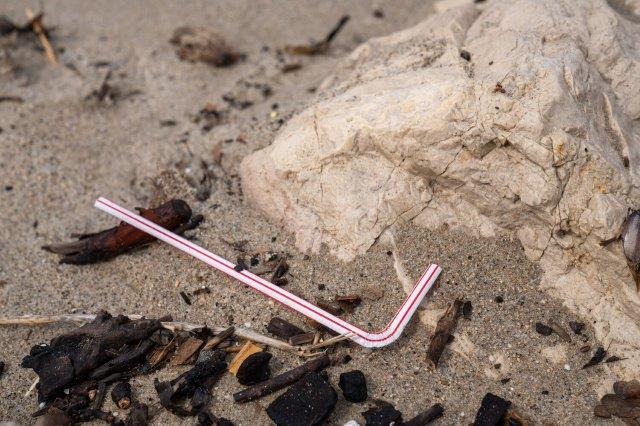sedotan: (94, 197, 442, 347)
